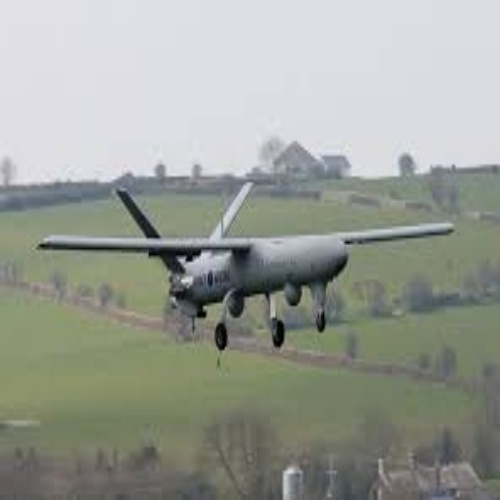uav: (39, 184, 453, 352)
